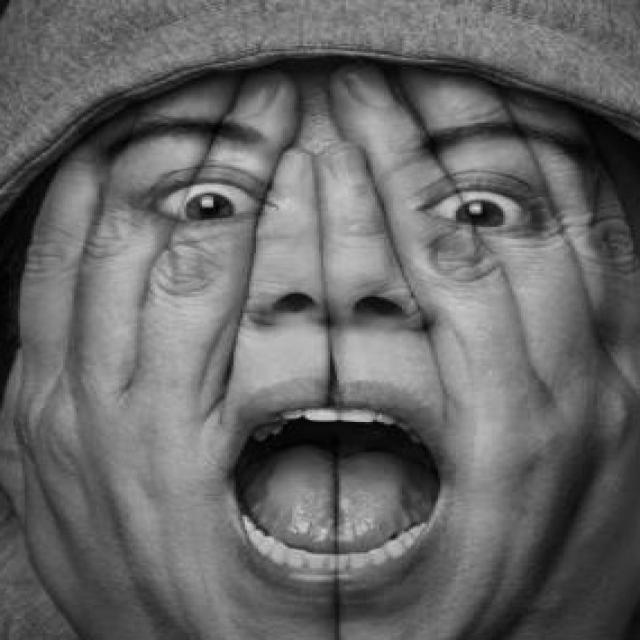Anxiety: (2, 59, 638, 638)
